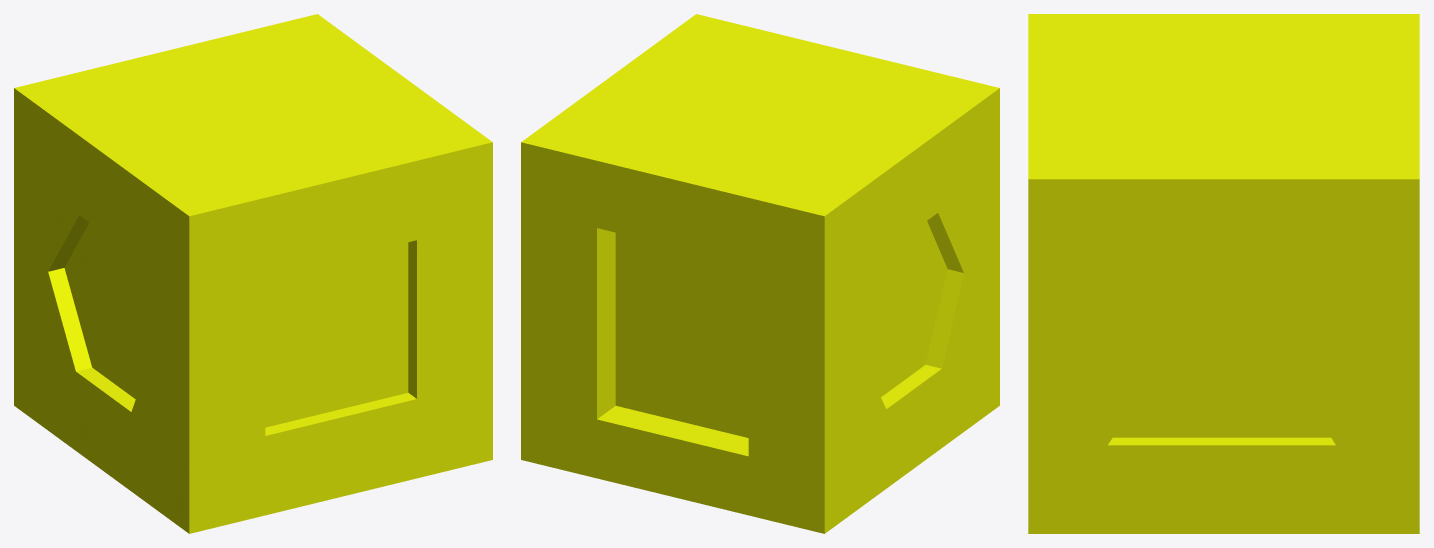
The model's file is Toy Shape Block yellowish.fbx.
The picture shows the model from 3 angles, left to right: view 1: azimuth 30°, elevation 25°; view 2: azimuth 150°, elevation 25°; view 3: azimuth 270°, elevation 25°; orthographic projection. The views are drawn at different scales.
Visible parts, largest first — view 1: Toy Block; view 2: Toy Block; view 3: Toy Block.
Boxes of the visible parts, x1=… form: Toy Block: x1=14, y1=14, x2=492, y2=533; Toy Block: x1=521, y1=14, x2=999, y2=533; Toy Block: x1=1028, y1=14, x2=1419, y2=533.
Size of the model in its own units: 200 by 200 by 200.
